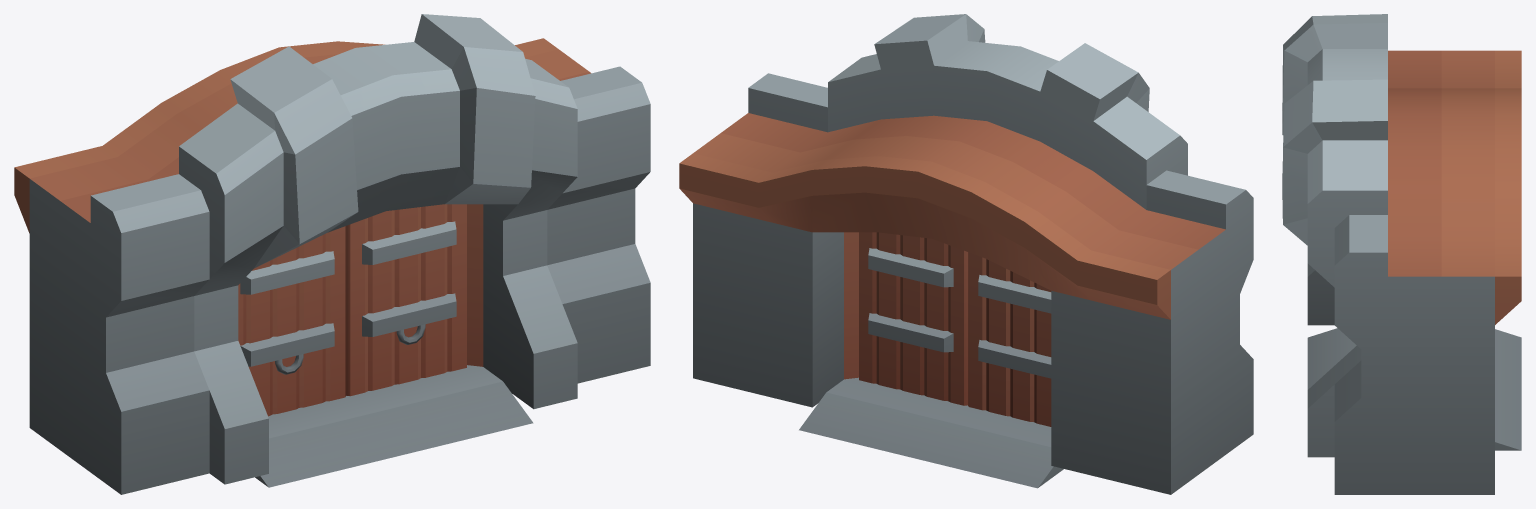
Rendered from wall_straight_gate.glb.
3 renders of one model, left to right at view 1: azimuth 30°, elevation 25°; view 2: azimuth 150°, elevation 25°; view 3: azimuth 270°, elevation 25°, orthographic. The views are drawn at different scales.
Visible parts, largest first — view 1: wall_straight_gate, wall_straight_gate_door_left, wall_straight_gate_door_right; view 2: wall_straight_gate, wall_straight_gate_door_left, wall_straight_gate_door_right; view 3: wall_straight_gate.
Boxes of the visible parts, x1,y1,x2,y2 form: wall_straight_gate: (14, 14, 650, 494); wall_straight_gate_door_left: (346, 204, 466, 396); wall_straight_gate_door_right: (238, 226, 346, 416); wall_straight_gate: (679, 14, 1253, 494); wall_straight_gate_door_left: (859, 232, 967, 405); wall_straight_gate_door_right: (968, 252, 1051, 426); wall_straight_gate: (1282, 14, 1521, 494).
Bounding box in the file's own units: 2 × 1.41 × 0.8956.
1 material, 1 textured.
